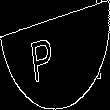P_N: (41, 27, 69, 83)
